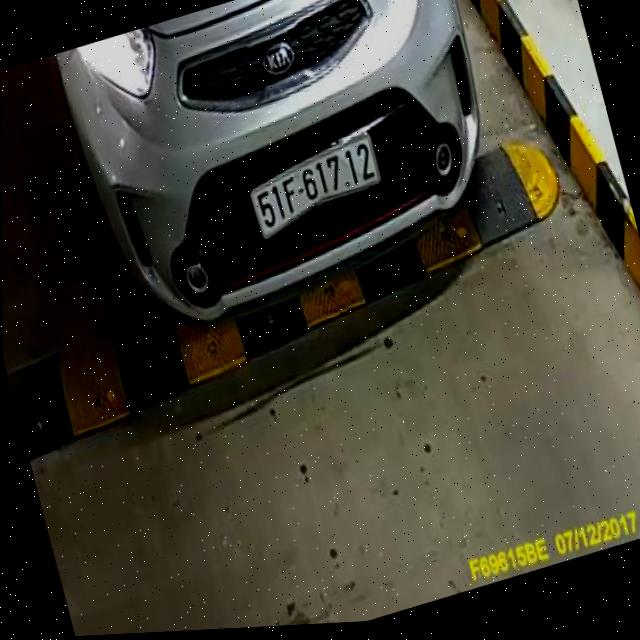car: (39, 0, 518, 355)
plate: (240, 132, 390, 239)
